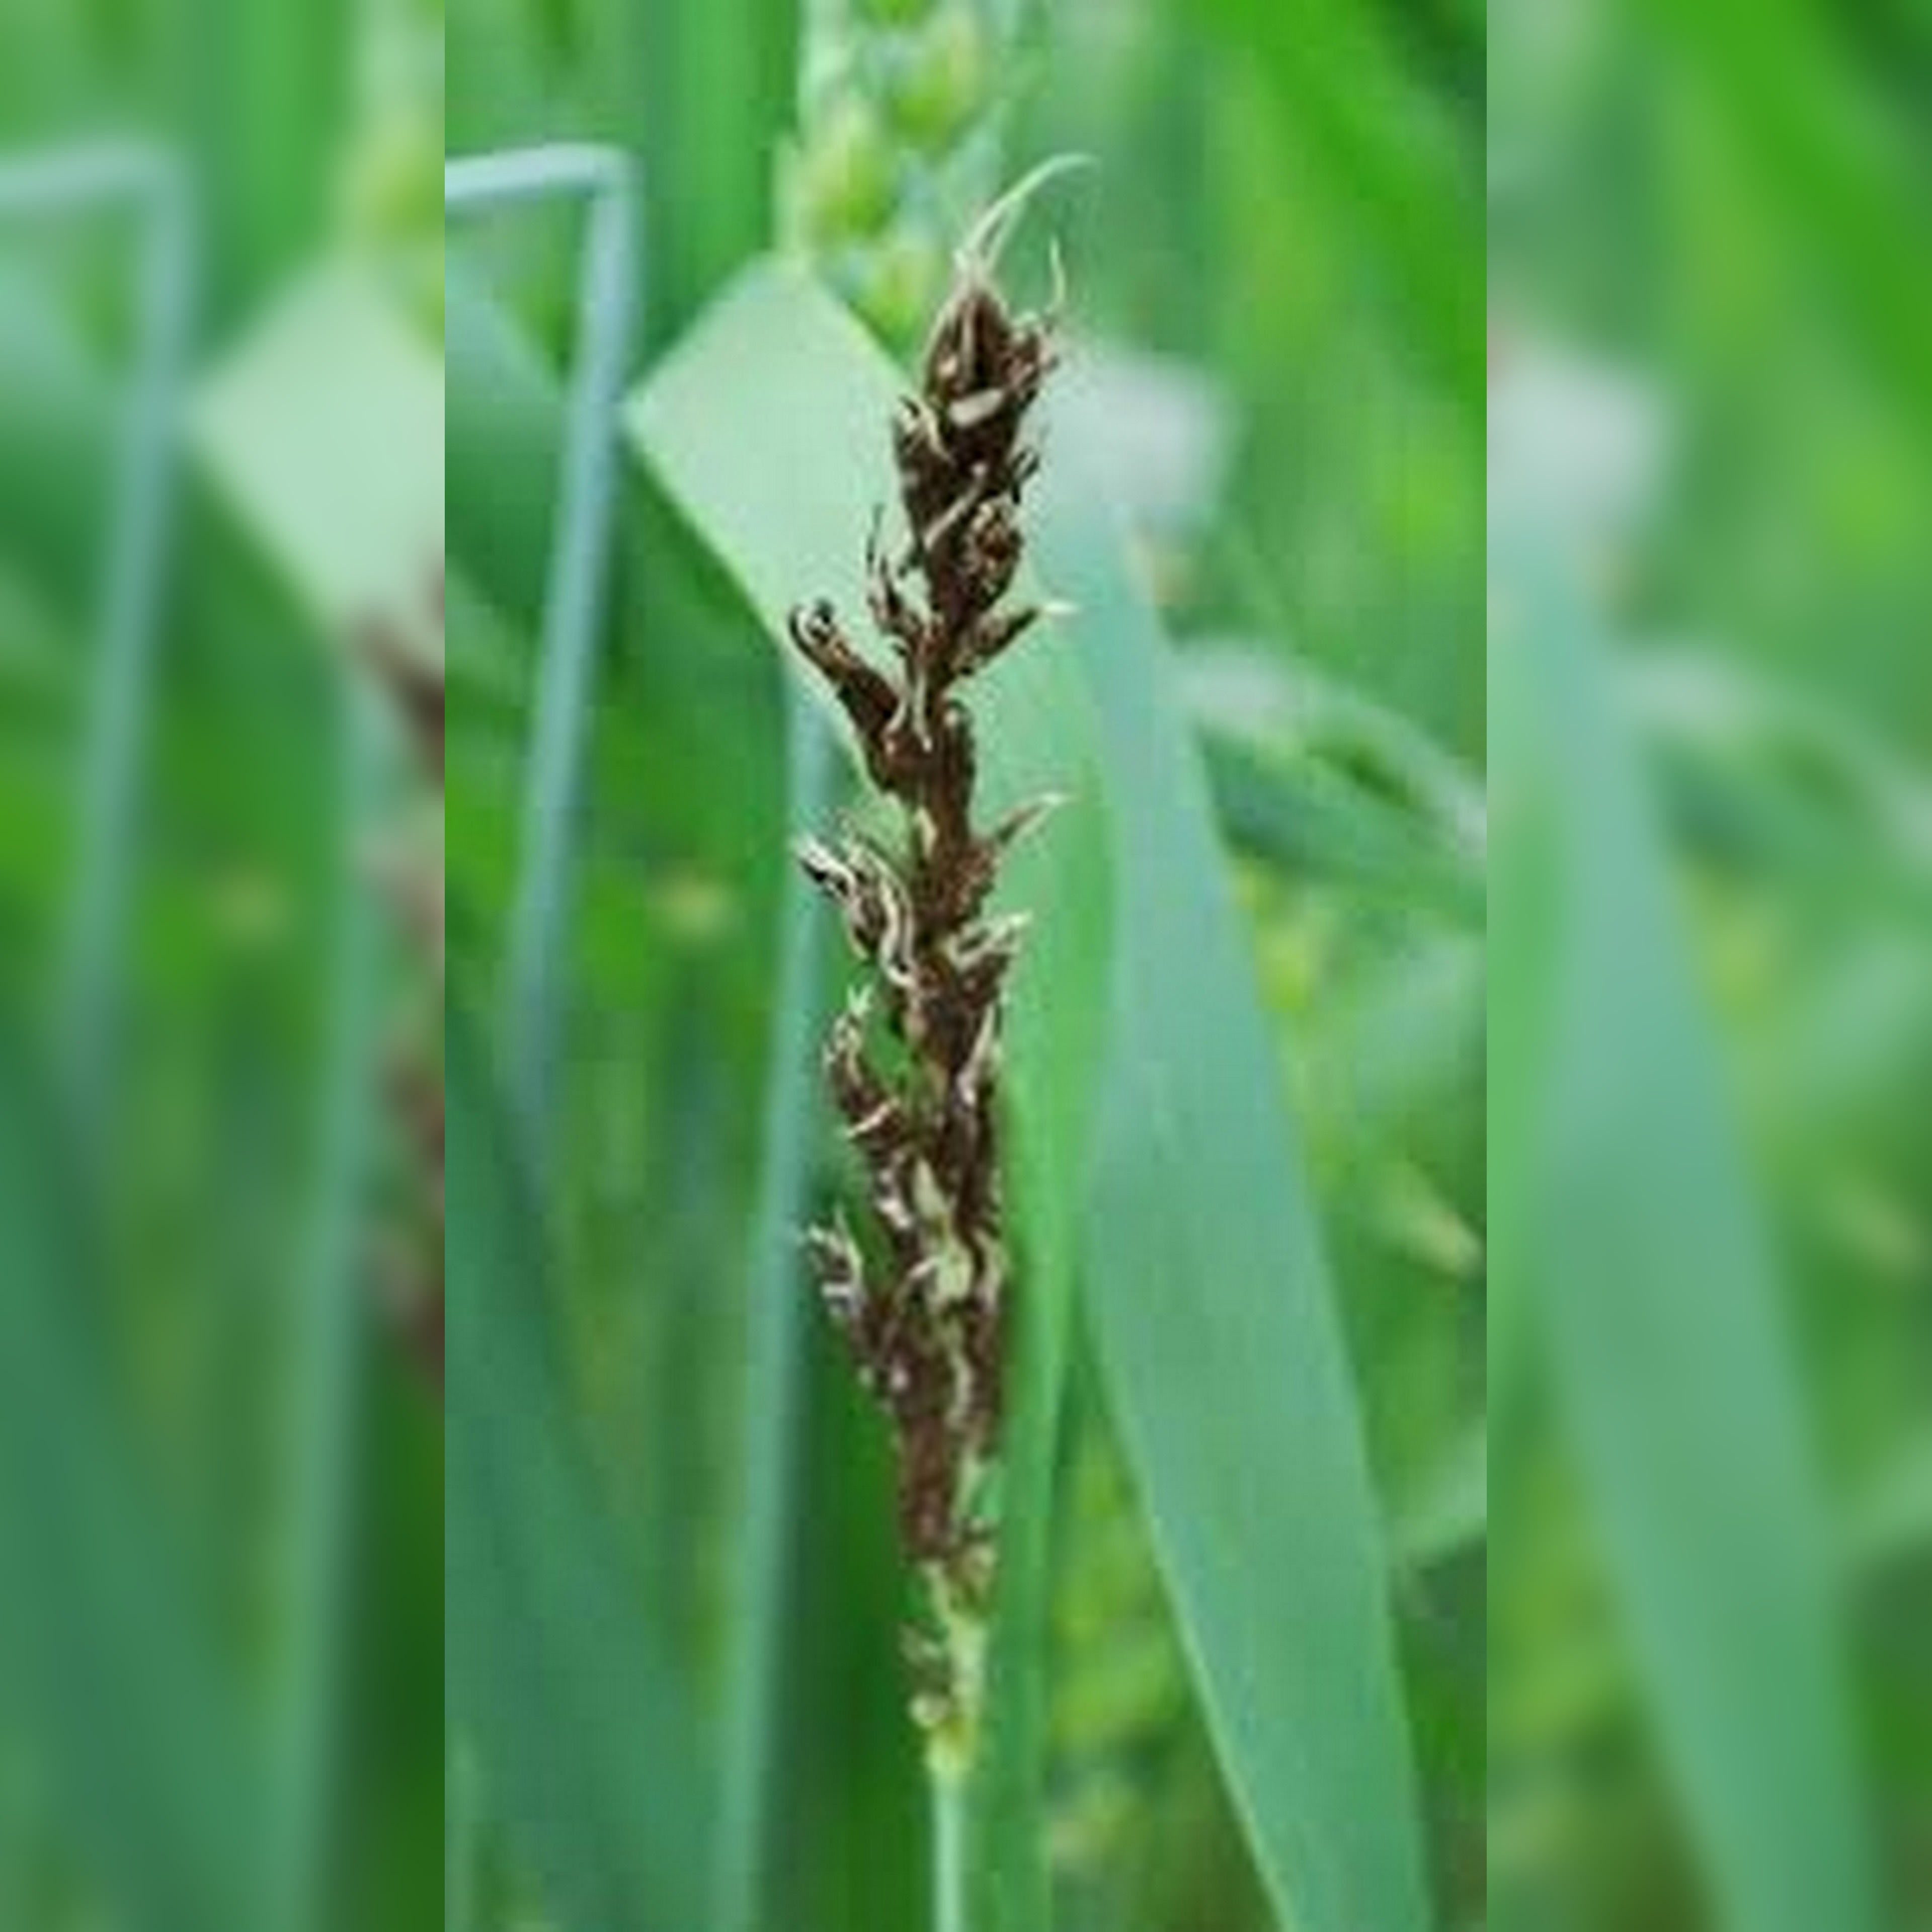Wheat Loose Smut: (759, 234, 1115, 1628)
